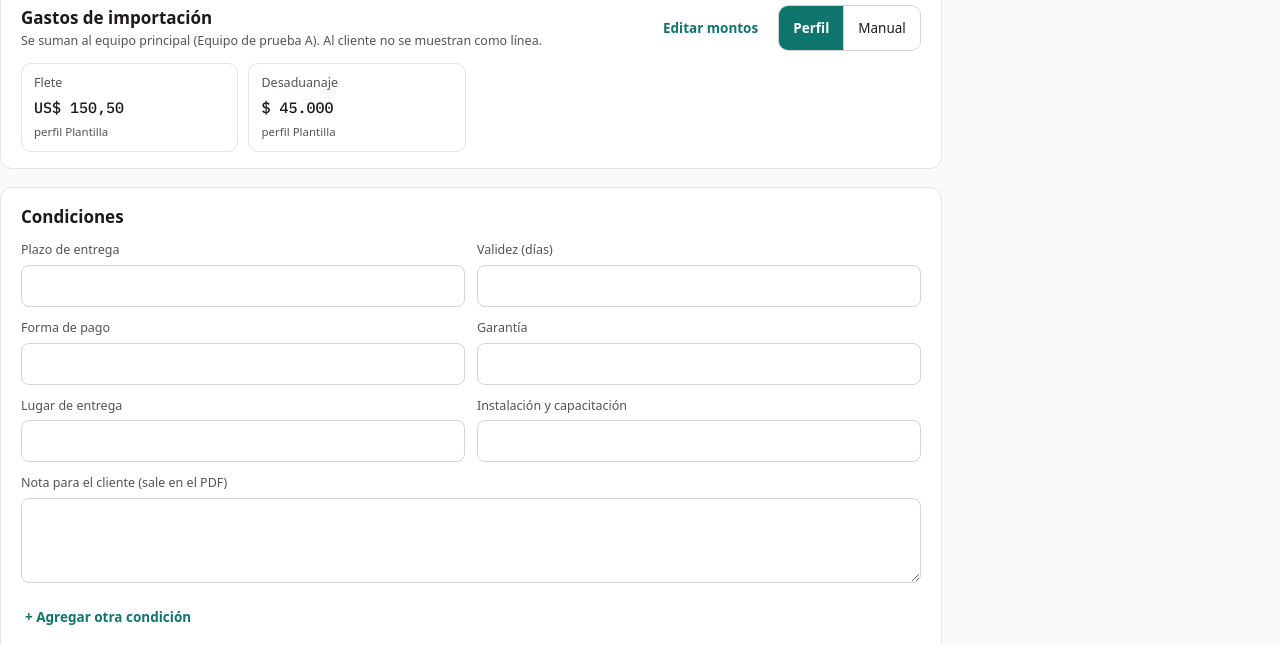
Test: Cotizador page — the draft editor › keeps the expenses and conditions read-only after someone else's save
(page scrolled)
Type "4 semanas" into the field labelled "Plazo de entrega" at (243, 286), box [21, 265, 465, 307]
Wait 1250 ms
(page scrolled)
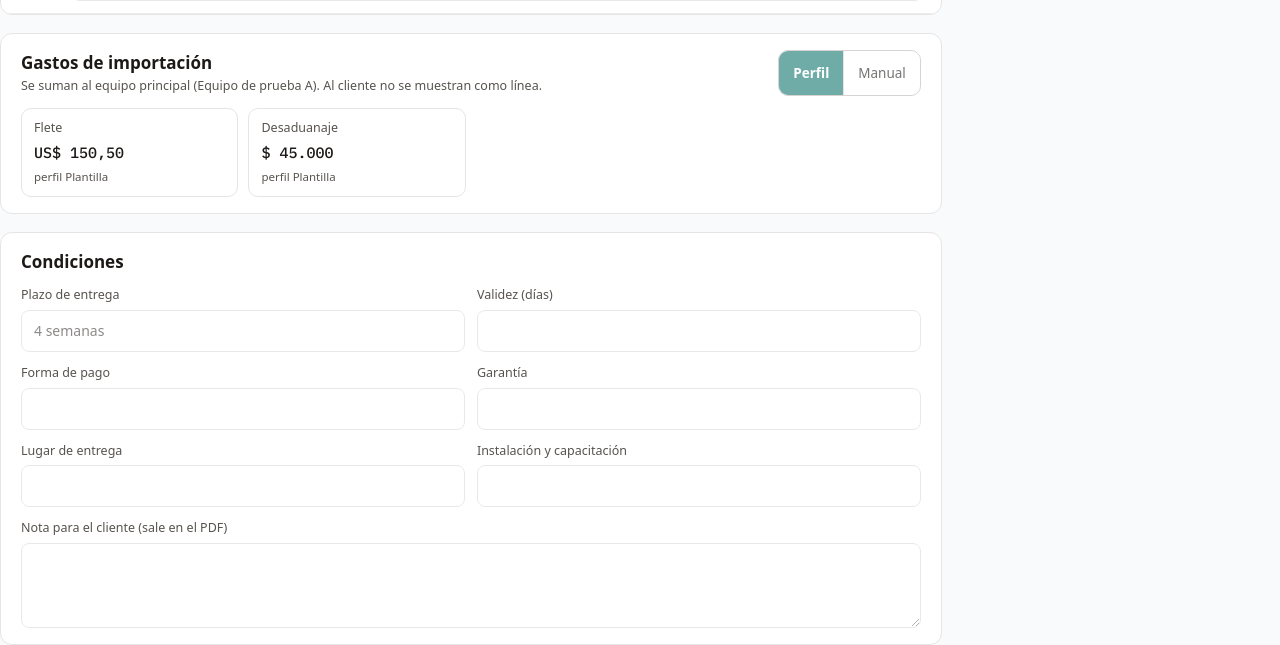
Expected: the field labelled "Plazo de entrega" is disabled, [21, 310, 465, 352]
Expected: the button "Perfil" is disabled, [779, 51, 843, 95]
Expected: the button "Editar montos" is gone
